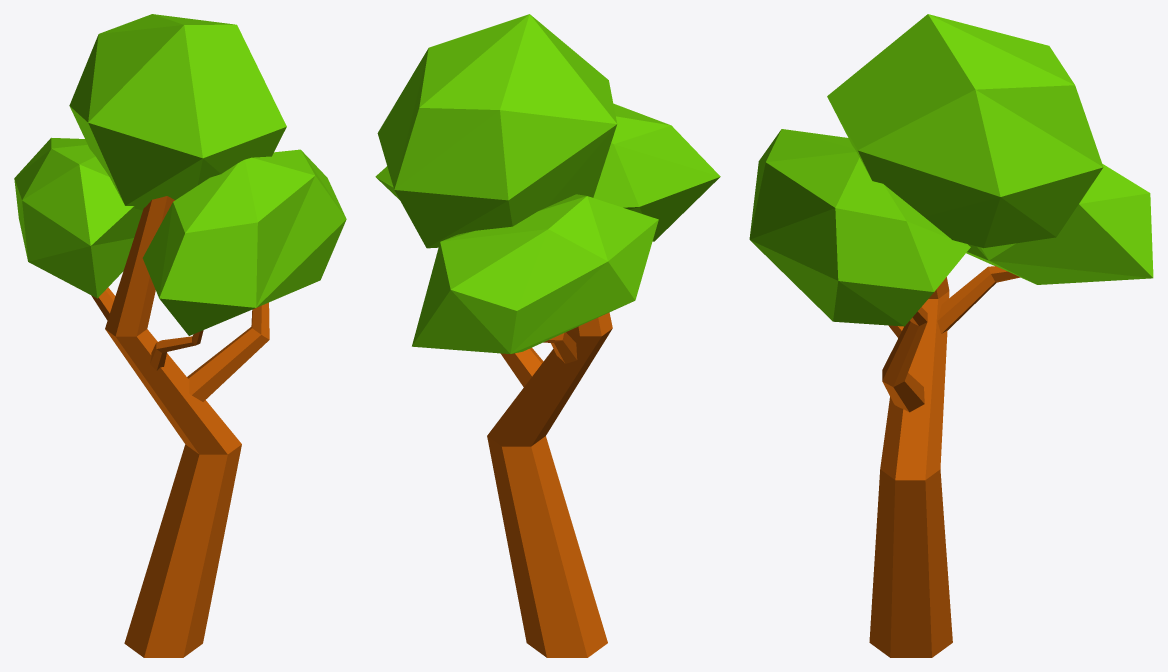
Rendered from tree2.fbx.
3 views of the same model, side by side, from view 1: azimuth 30°, elevation 25°; view 2: azimuth 150°, elevation 25°; view 3: azimuth 270°, elevation 25° (orthographic). The views are drawn at different scales.
Visible parts, largest first — view 1: Sphere.001, Cylinder; view 2: Sphere.001, Cylinder; view 3: Sphere.001, Cylinder.
Part boxes in pixels (x1=…): Sphere.001: x1=14, y1=14, x2=346, y2=335; Cylinder: x1=91, y1=196, x2=269, y2=657; Sphere.001: x1=375, y1=14, x2=720, y2=353; Cylinder: x1=487, y1=312, x2=612, y2=657; Sphere.001: x1=749, y1=14, x2=1153, y2=326; Cylinder: x1=869, y1=266, x2=1020, y2=657.
Size of the model in its own units: 366 by 771 by 439.
